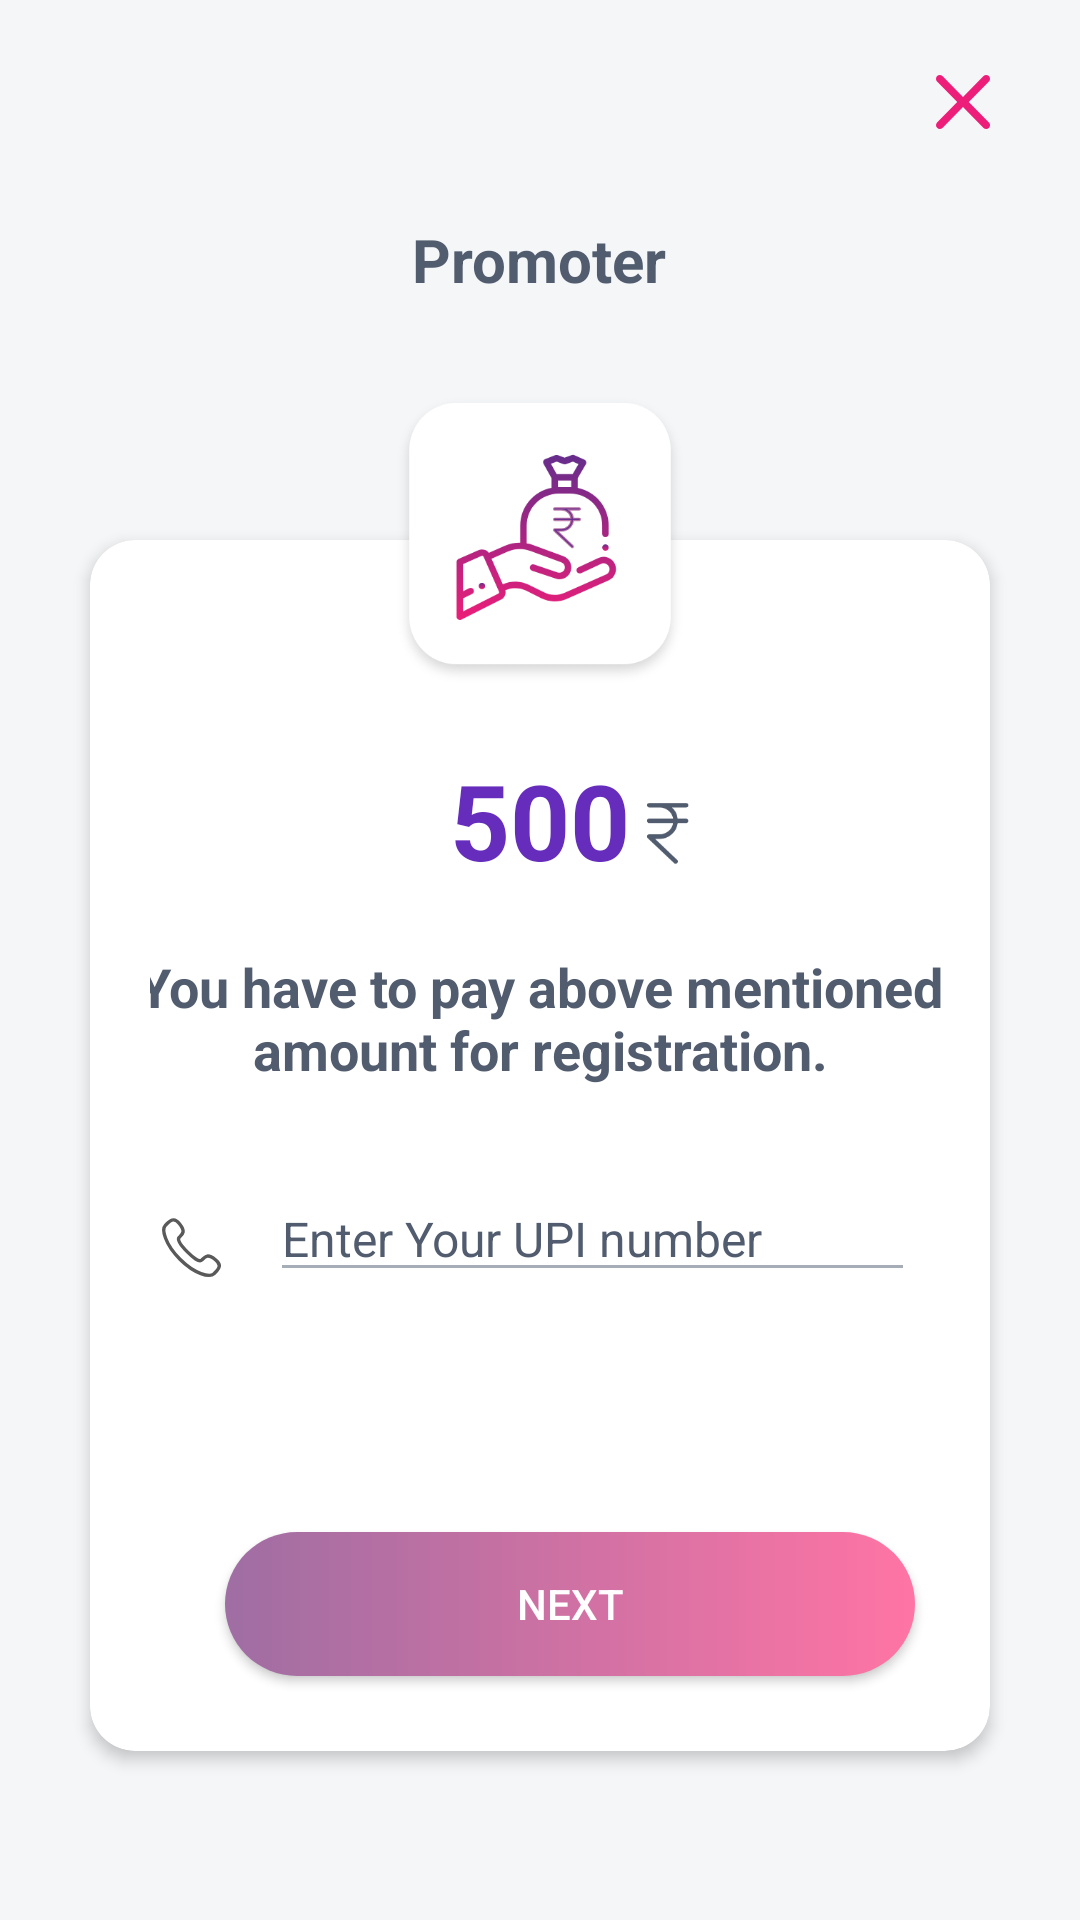

Screen size 1080px×1920px. Icon name, then its box in pixels as (x1, y1, x2, y2):
cal: (162, 1218, 221, 1277)
close: (936, 75, 990, 129)
